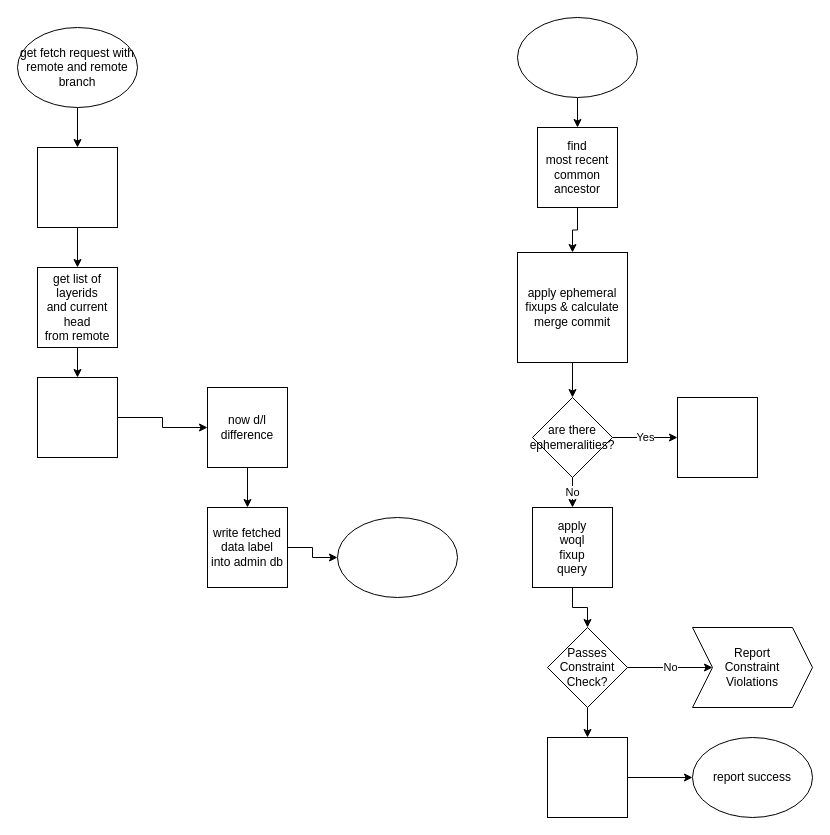
This 830x835 diagram has some shape labels left out. The centre of each missing label's shape, as x and y in pixels:
"advance head" goes at (587,777).
"compare with local layer list" goes at (77,417).
"get merge request with ref and a branch" goes at (577,57).
"get remote URL from admin db" goes at (77,187).
"report ephemoerals" goes at (717,437).
"report to user" goes at (397,557).
